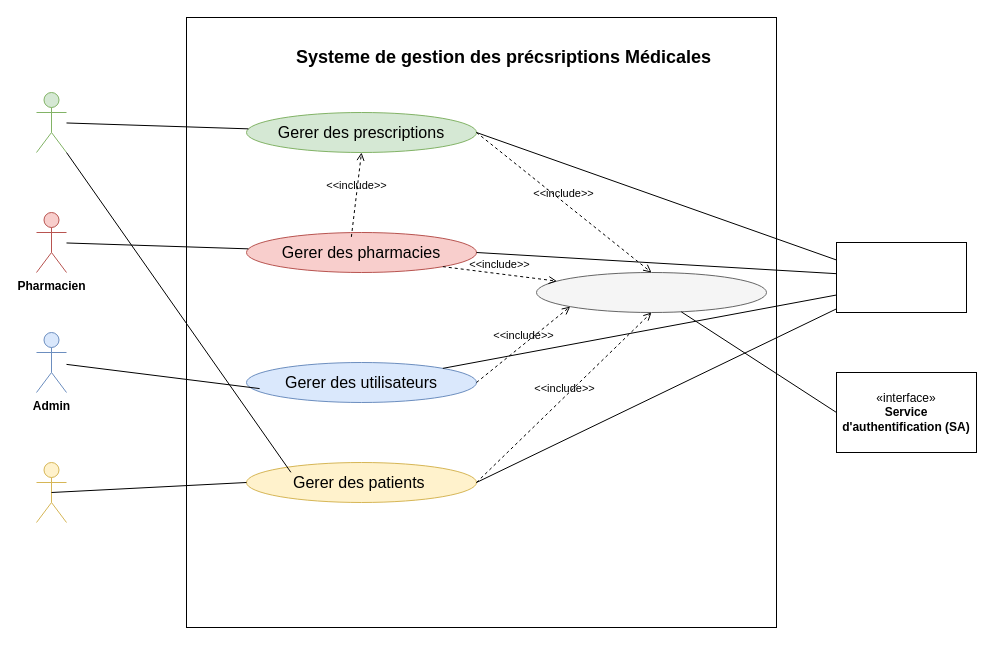
Image size: 994x645. Some labels were removed from this diagram. Here are the shapes that lost their labels. From the top down, the centre of each, then its label:
(x=51, y=122): Medecin
(x=651, y=292): Authentification
(x=901, y=277): «interface» Service de gestion notification
(x=51, y=492): Patient
